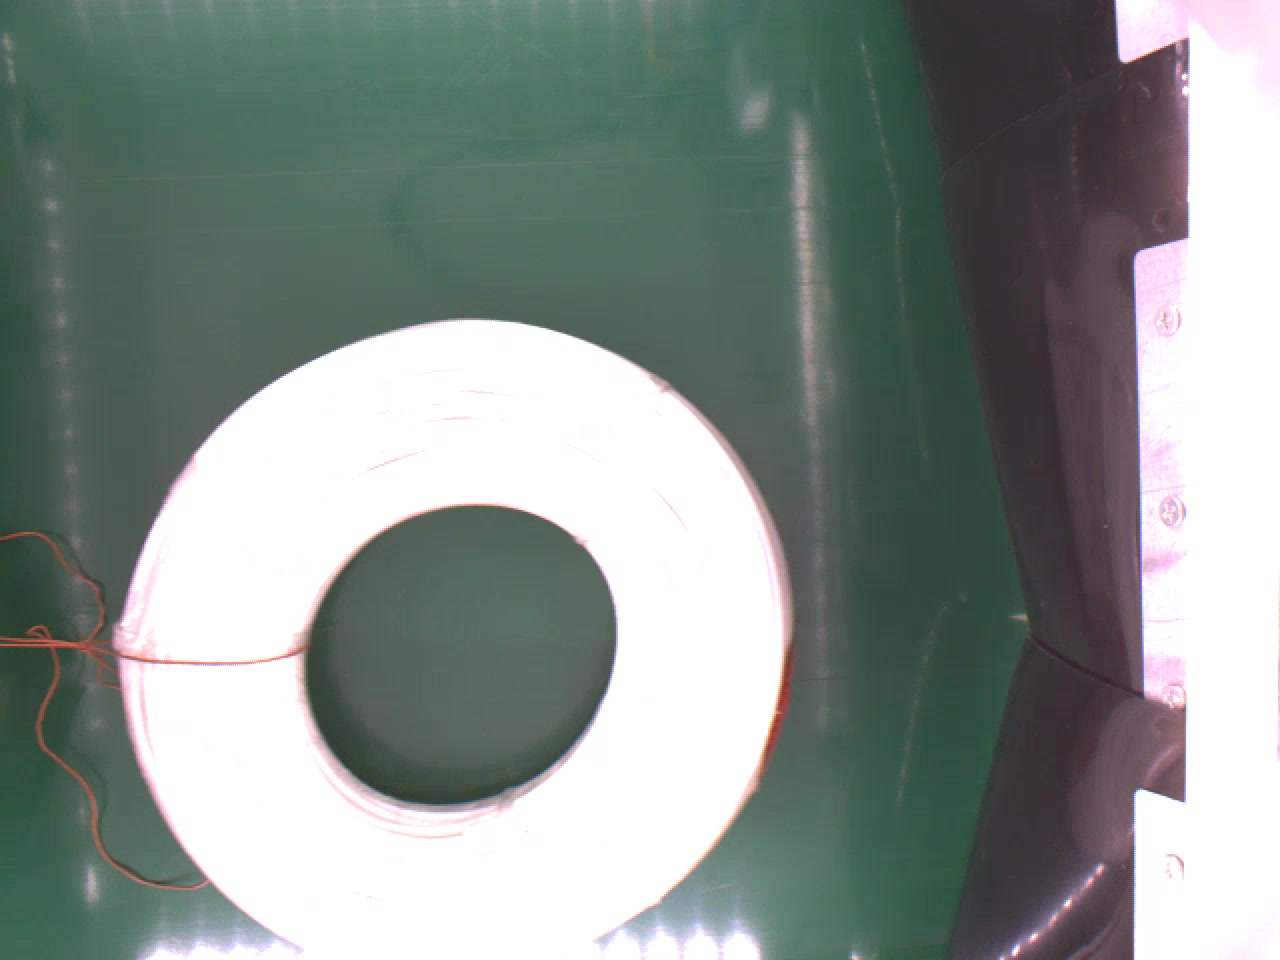white: (113, 316, 801, 960)
